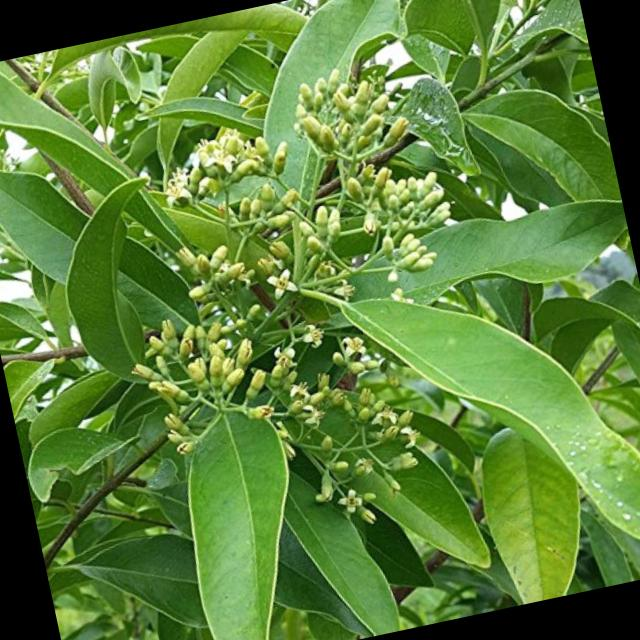Sandalwood: (0, 0, 640, 640), (80, 0, 630, 452)
